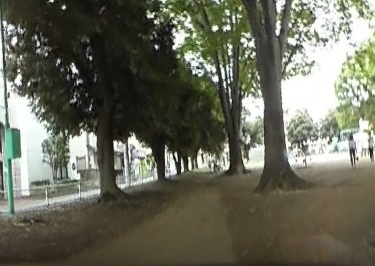person: (346, 131, 358, 167), (365, 129, 375, 162)
